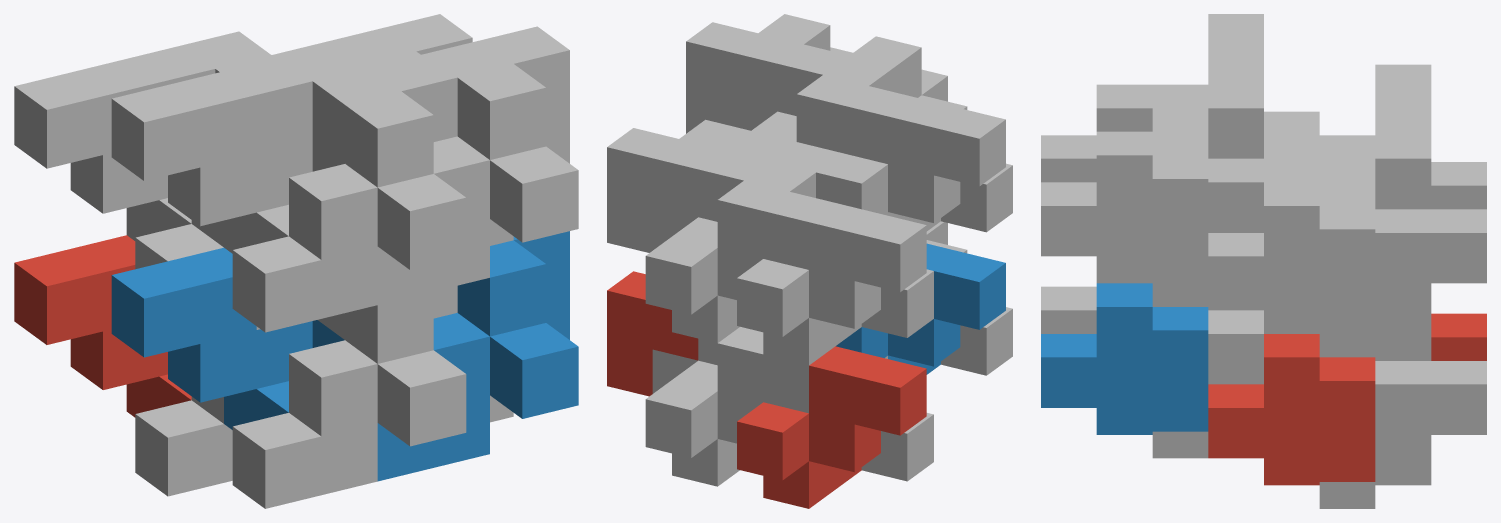
File: tiling.obj
3 renders of one model, left to right at view 1: azimuth 30°, elevation 25°; view 2: azimuth 150°, elevation 25°; view 3: azimuth 270°, elevation 25°, orthographic. The views are drawn at different scales.
Parts seen in each view (by area): view 1: copy_2_domain_4, copy_2_domain_2, copy_2_domain_8, copy_2_domain_6, copy_1_domain_4, copy_1_domain_2, copy_1_domain_3, copy_1_domain_1, copy_2_domain_1, copy_1_domain_8, copy_2_domain_7, copy_1_domain_7 (+1 smaller); view 2: copy_1_domain_1, copy_1_domain_3, copy_1_domain_7, copy_1_domain_5, copy_1_domain_4, copy_2_domain_7, copy_2_domain_4, copy_2_domain_8, copy_1_domain_8, copy_1_domain_2, copy_2_domain_3, copy_2_domain_5 (+2 smaller); view 3: copy_2_domain_8, copy_2_domain_7, copy_2_domain_6, copy_2_domain_5, copy_1_domain_7, copy_1_domain_5, copy_1_domain_8, copy_2_domain_4, copy_1_domain_6, copy_1_domain_3, copy_2_domain_3, copy_1_domain_4 (+2 smaller).
Part boxes in pixels (left/top/right/bottom): copy_2_domain_4: left=232, top=54, right=466, bottom=332; copy_2_domain_2: left=232, top=285, right=466, bottom=508; copy_2_domain_8: left=377, top=26, right=578, bottom=304; copy_2_domain_6: left=377, top=231, right=578, bottom=481; copy_1_domain_4: left=111, top=71, right=344, bottom=253; copy_1_domain_2: left=111, top=247, right=344, bottom=429; copy_1_domain_3: left=14, top=59, right=191, bottom=240; copy_1_domain_1: left=14, top=235, right=191, bottom=417; copy_2_domain_1: left=135, top=396, right=232, bottom=496; copy_1_domain_8: left=224, top=44, right=513, bottom=245; copy_2_domain_7: left=328, top=14, right=472, bottom=67; copy_1_domain_7: left=127, top=31, right=270, bottom=86; copy_1_domain_1: left=737, top=346, right=926, bottom=508; copy_1_domain_3: left=737, top=203, right=926, bottom=365; copy_1_domain_7: left=645, top=180, right=834, bottom=343; copy_1_domain_5: left=645, top=327, right=808, bottom=486; copy_1_domain_4: left=816, top=97, right=1005, bottom=231; copy_2_domain_7: left=607, top=119, right=750, bottom=252; copy_2_domain_4: left=777, top=36, right=1012, bottom=232; copy_2_domain_8: left=686, top=14, right=852, bottom=133; copy_1_domain_8: left=725, top=75, right=913, bottom=163; copy_1_domain_2: left=836, top=243, right=1005, bottom=374; copy_2_domain_3: left=698, top=142, right=933, bottom=337; copy_2_domain_5: left=607, top=271, right=698, bottom=396; copy_2_domain_8: left=1041, top=131, right=1208, bottom=283; copy_2_domain_7: left=1208, top=182, right=1375, bottom=333; copy_2_domain_6: left=1041, top=283, right=1208, bottom=434; copy_2_domain_5: left=1208, top=334, right=1375, bottom=485; copy_1_domain_7: left=1319, top=111, right=1486, bottom=357; copy_1_domain_5: left=1319, top=334, right=1486, bottom=508; copy_1_domain_8: left=1152, top=61, right=1319, bottom=306; copy_2_domain_4: left=1041, top=84, right=1208, bottom=182; copy_1_domain_6: left=1152, top=307, right=1263, bottom=458; copy_1_domain_3: left=1375, top=64, right=1486, bottom=209; copy_2_domain_3: left=1264, top=135, right=1375, bottom=182; copy_1_domain_4: left=1208, top=14, right=1319, bottom=135.
Bounding box in the file's own units: 7 × 7 × 8.
